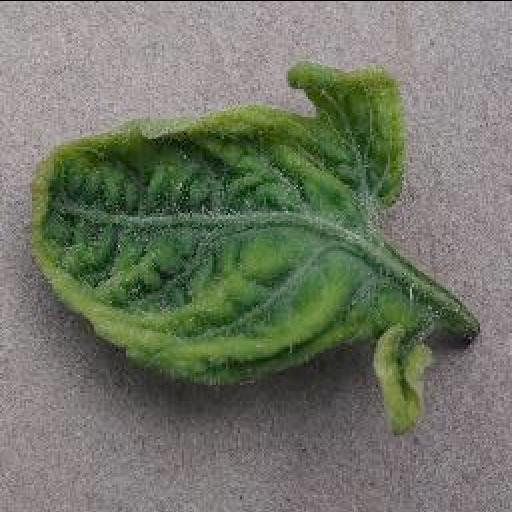disease_tomato: (18, 61, 408, 390)
